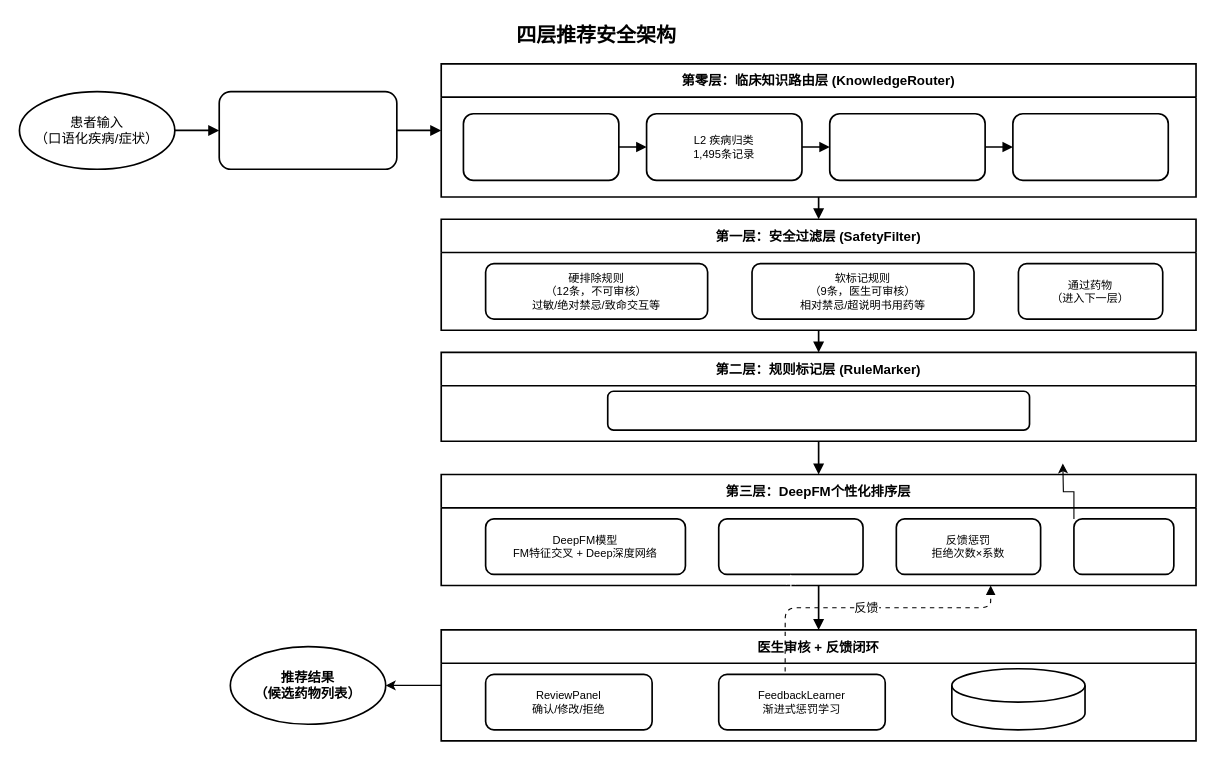
The diagram is 1217 pixels wide and 760 high, and some of its shapes have lost their labels. Here are the shapes that lost their labels. From the top down, the centre of each, then its label:
(x=307, y=130): PatientInputEnhancer 患者口语增强
(x=540, y=146): L1 口语标准化 154条映射
(x=906, y=146): L3 适应症映射 200条规则
(x=1090, y=146): L4 药品召回 候选药物集
(x=818, y=410): 附加临床警告标签 妊娠警告/老年用药注意/药物相互作用提示等
(x=790, y=546): 药类匹配评分 +0.25分
(x=1123, y=546): 最终得分排序 Top-K候选
(x=1017, y=698): review_log 审核记录持久化
